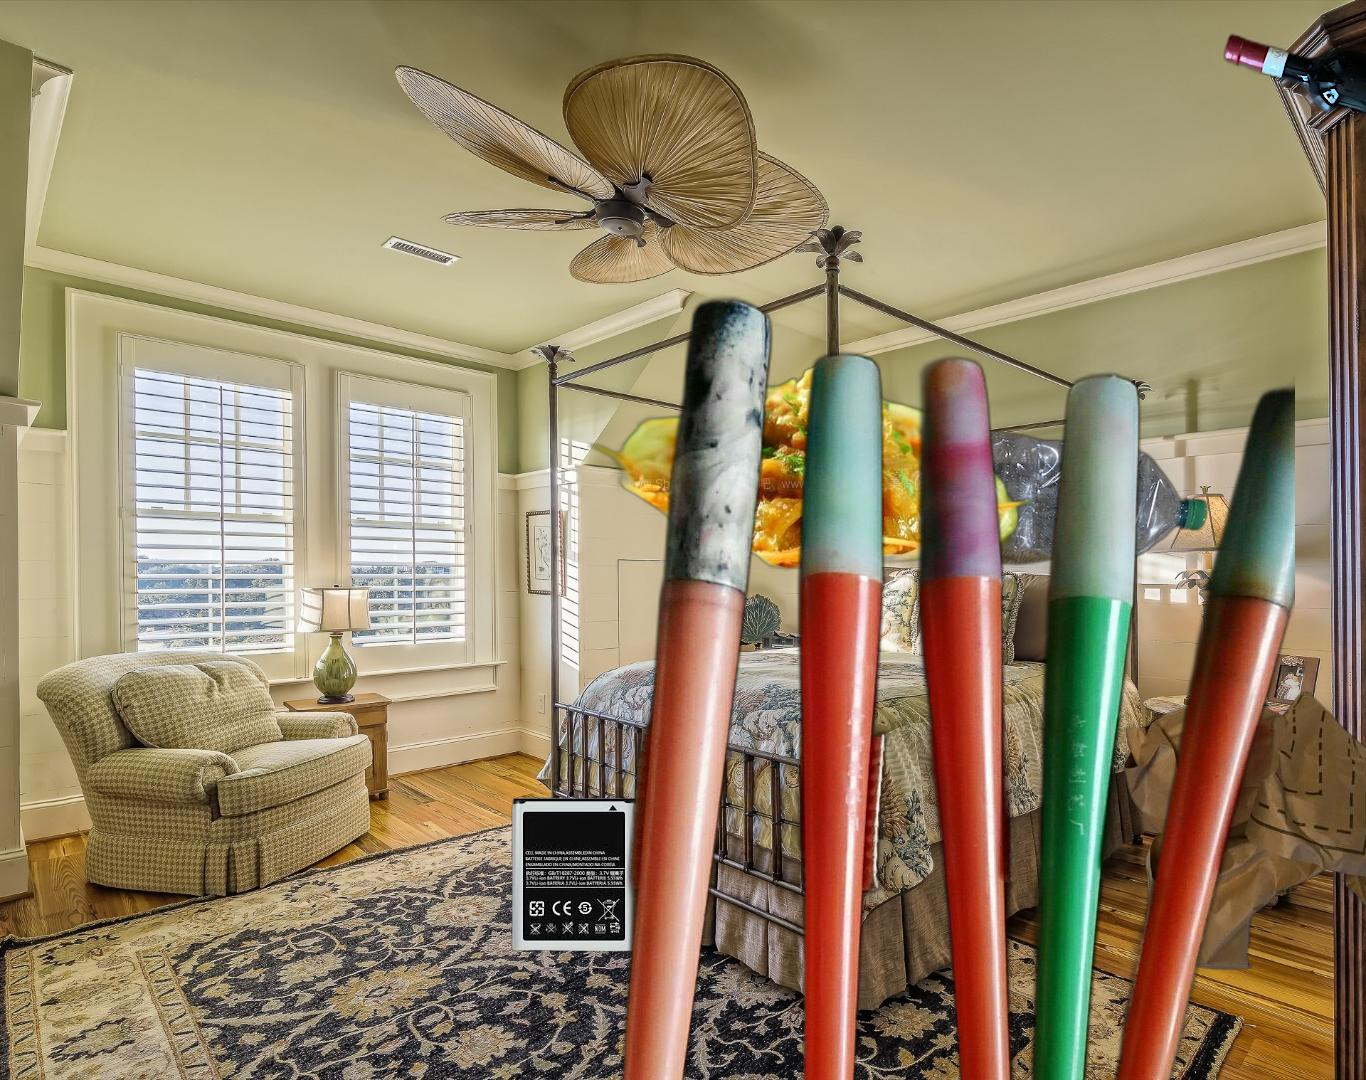battery: (509, 795, 641, 955)
biological: (584, 354, 1057, 636)
glass: (1219, 29, 1366, 171)
paper: (1120, 689, 1366, 971)
penholder: (599, 288, 1295, 1080)
plastic-bottles: (834, 419, 1212, 764)
trash: (1365, 613, 1366, 799)
